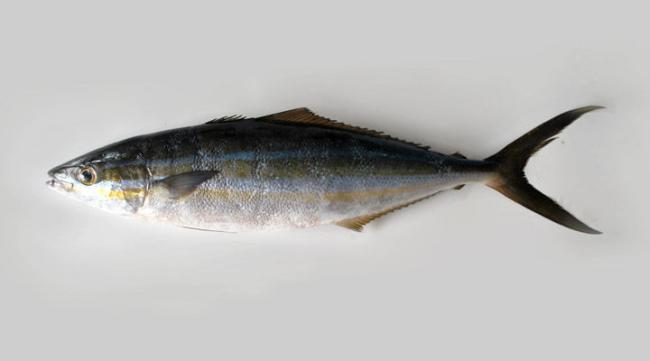fish: (46, 106, 605, 237)
